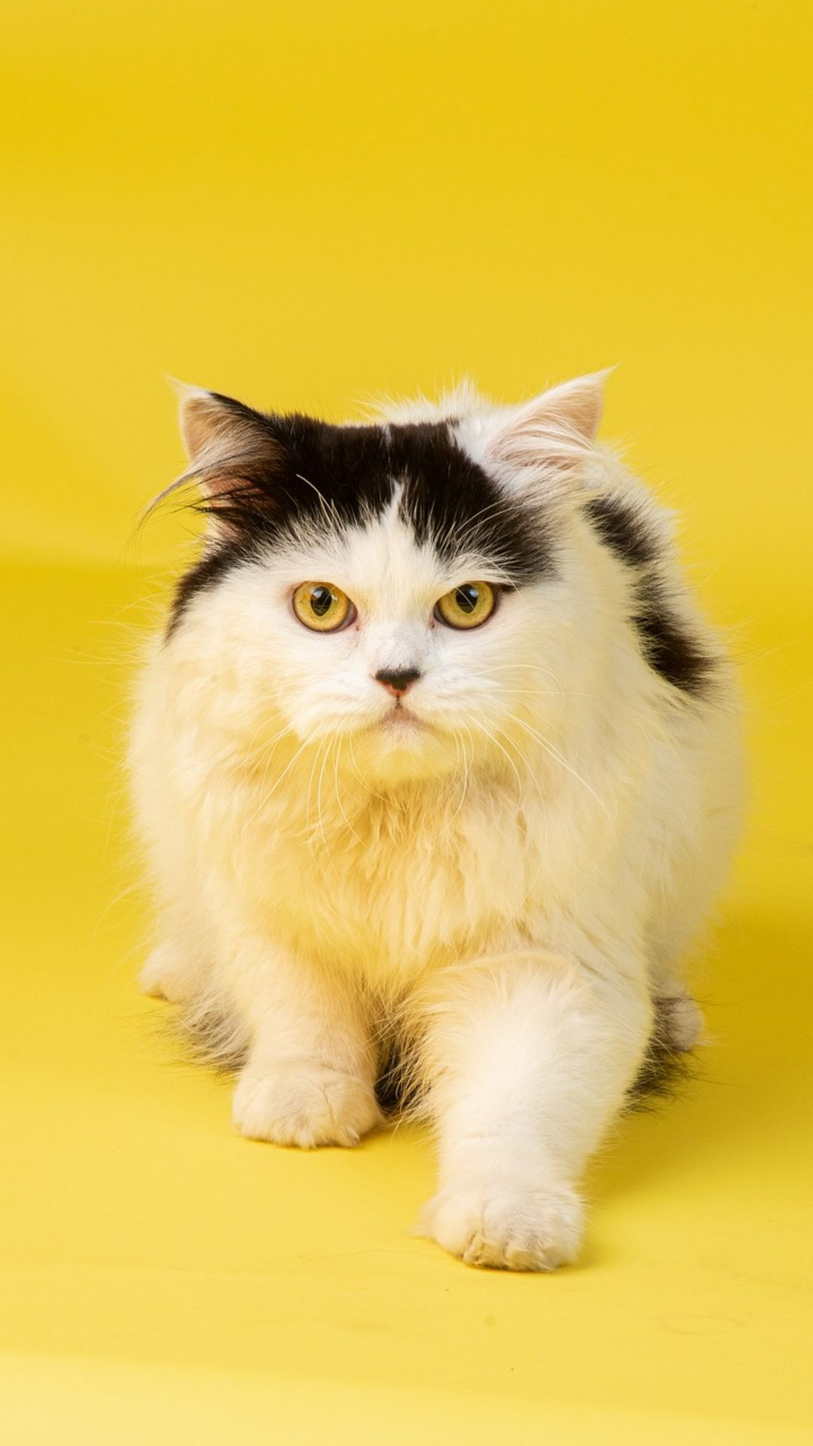Cat: (135, 365, 769, 1296)
